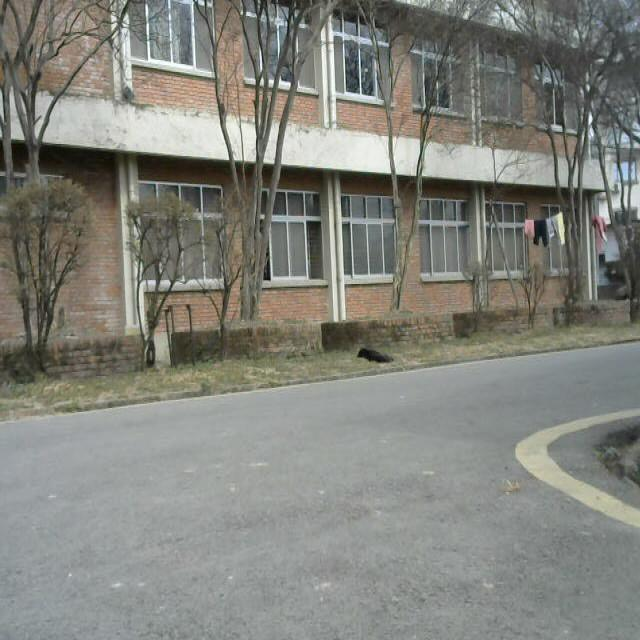Buildings: (0, 1, 634, 350)
Road: (2, 425, 640, 640), (213, 342, 640, 435)
trees: (466, 5, 630, 331), (198, 0, 328, 310), (331, 7, 438, 310), (1, 2, 154, 169), (121, 184, 203, 360), (13, 177, 87, 371)
